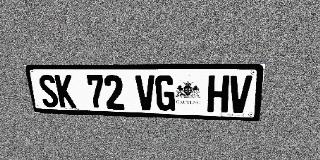2: (103, 75, 125, 110)
7: (85, 75, 107, 109)
G: (155, 75, 175, 111)
H: (207, 75, 230, 113)
K: (54, 75, 76, 108)
S: (37, 75, 60, 108)
V: (228, 75, 252, 113), (135, 75, 156, 111)
